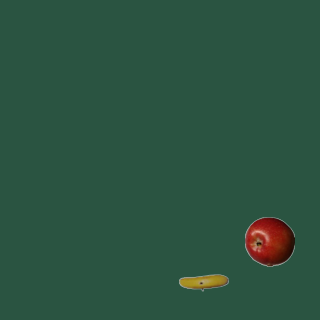Apple Braeburn: (244, 216, 294, 266)
Banana: (178, 257, 228, 307)
